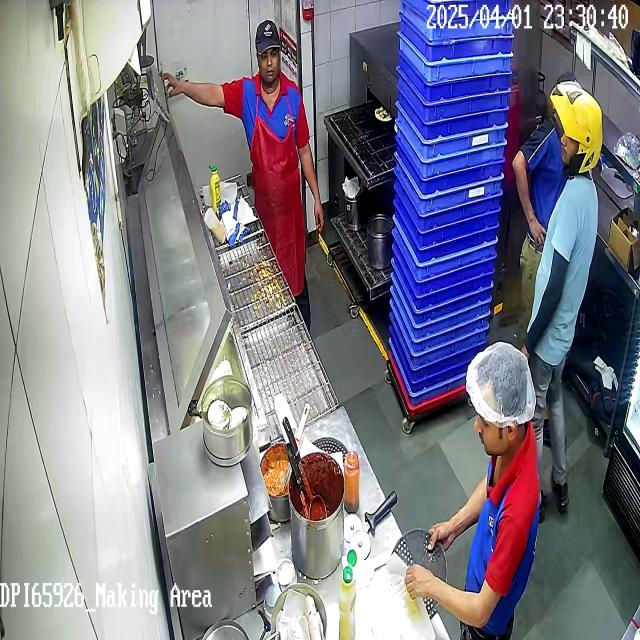helmet: (550, 82, 602, 176)
no_helmet: (466, 341, 536, 457), (255, 19, 280, 92)
